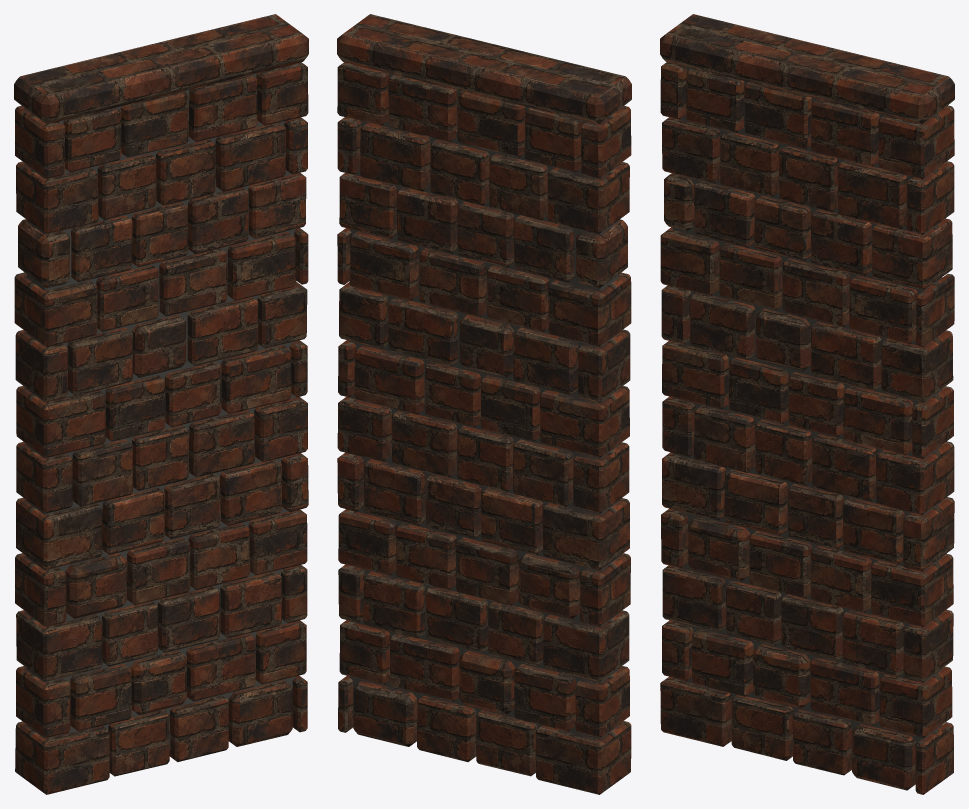
The model's file is wall_brick_a.glb.
3 views of the same model, side by side, from view 1: azimuth 30°, elevation 25°; view 2: azimuth 150°, elevation 25°; view 3: azimuth 330°, elevation 25° (orthographic).
Visible parts, largest first — view 1: wall_brick_a; view 2: wall_brick_a; view 3: wall_brick_a.
Part boxes in pixels (x1,y1,x2,y2): wall_brick_a: (14,14,308,794); wall_brick_a: (337,14,631,794); wall_brick_a: (660,14,954,794).
Size of the model in its own units: 1 by 2.49 by 0.22.
4 materials, 3 textured.
